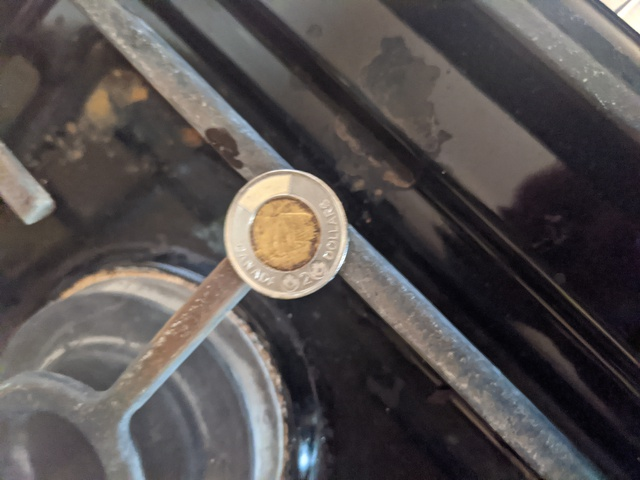twonie: (203, 159, 357, 298)
